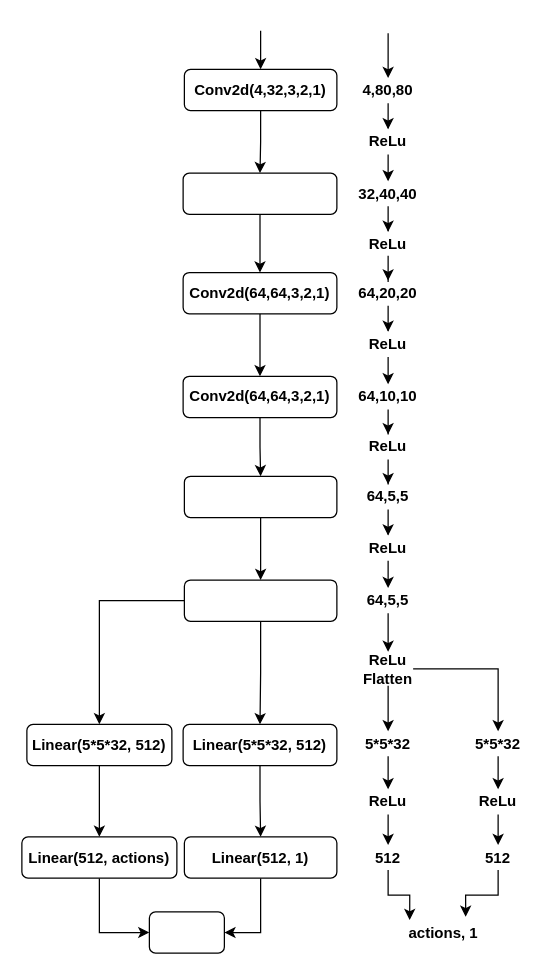
This 545x975 diagram has some shape labels left out. Each missing label, with the centre of its shape:
actor, critic: the point at 186,932
Conv2d(32,64,3,2,1): the point at 259,193
Conv2d(64,32,3,1,1): the point at 260,600
Conv2d(64,64,3,1,1): the point at 260,496
